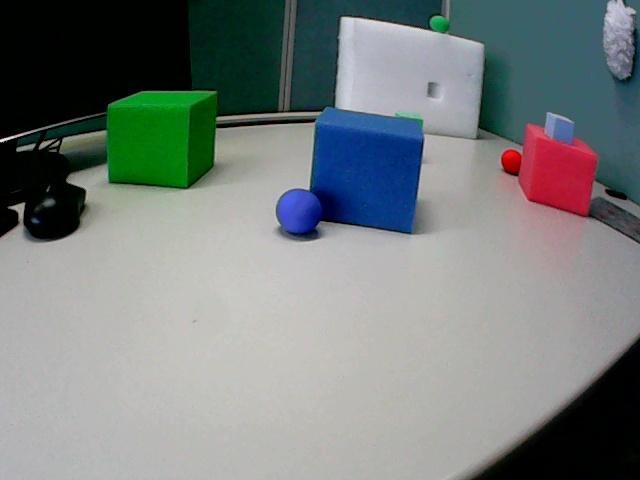blue_block: (310, 107, 423, 232), (544, 112, 574, 143)
red_block: (519, 124, 597, 215)
